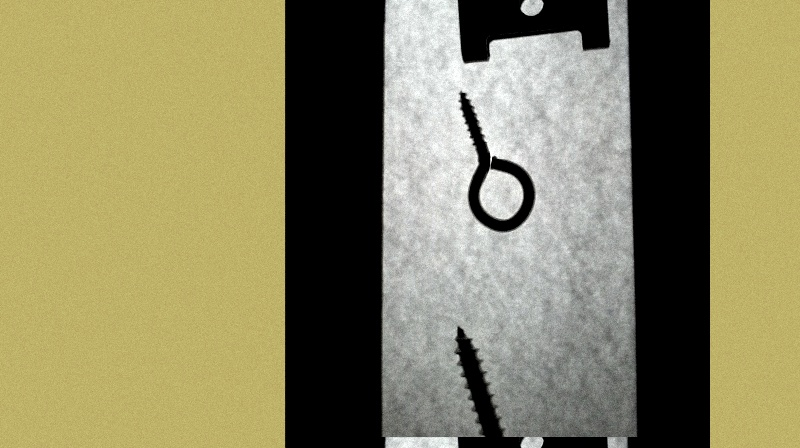O001: (455, 88, 537, 237)
O002: (450, 0, 612, 65)
S001: (450, 321, 536, 447)
